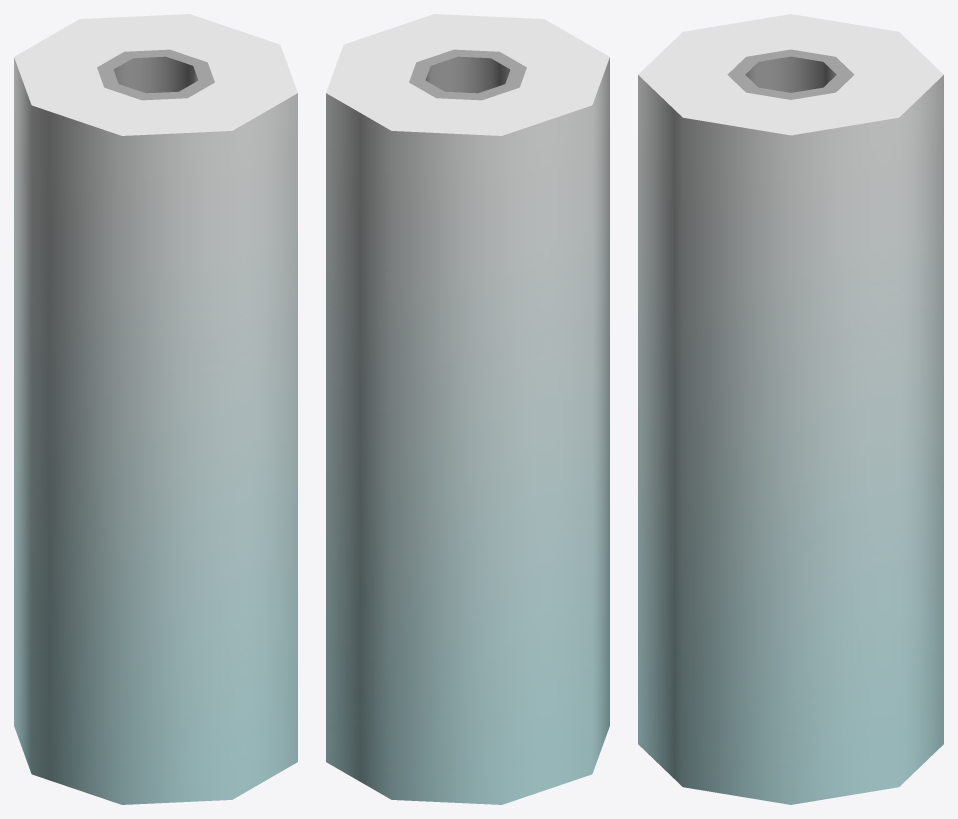
The model's file is roll_kitchen.fbx.
3 views of the same model, side by side, from view 1: azimuth 30°, elevation 25°; view 2: azimuth 150°, elevation 25°; view 3: azimuth 270°, elevation 25° (orthographic).
Parts seen in each view (by area): view 1: roll_kitchen; view 2: roll_kitchen; view 3: roll_kitchen.
Part boxes in pixels (x1,y1,x2,y2): roll_kitchen: (14, 14, 297, 804); roll_kitchen: (326, 14, 609, 804); roll_kitchen: (638, 14, 943, 804).
Size of the model in its own units: 163 by 419 by 173.
